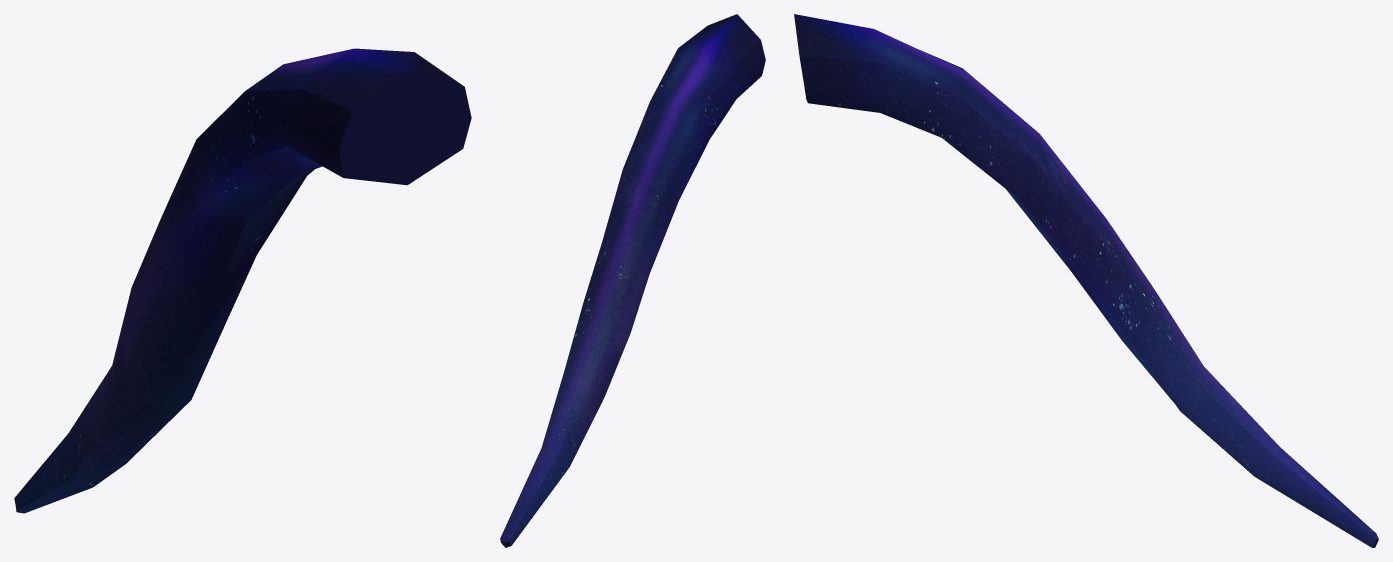
File: dinoTail.fbx
The picture shows the model from 3 angles, left to right: view 1: azimuth 30°, elevation 25°; view 2: azimuth 150°, elevation 25°; view 3: azimuth 270°, elevation 25°; orthographic projection. The views are drawn at different scales.
Parts seen in each view (by area): view 1: dinoTAil; view 2: dinoTAil; view 3: dinoTAil.
Boxes of the visible parts, x1=… form: dinoTAil: x1=14, y1=48, x2=471, y2=513; dinoTAil: x1=500, y1=14, x2=765, y2=547; dinoTAil: x1=794, y1=14, x2=1378, y2=547.
Bounding box in the file's own units: 14.02 × 73.74 × 74.94.
Materials: 1 (1 with a texture image).
